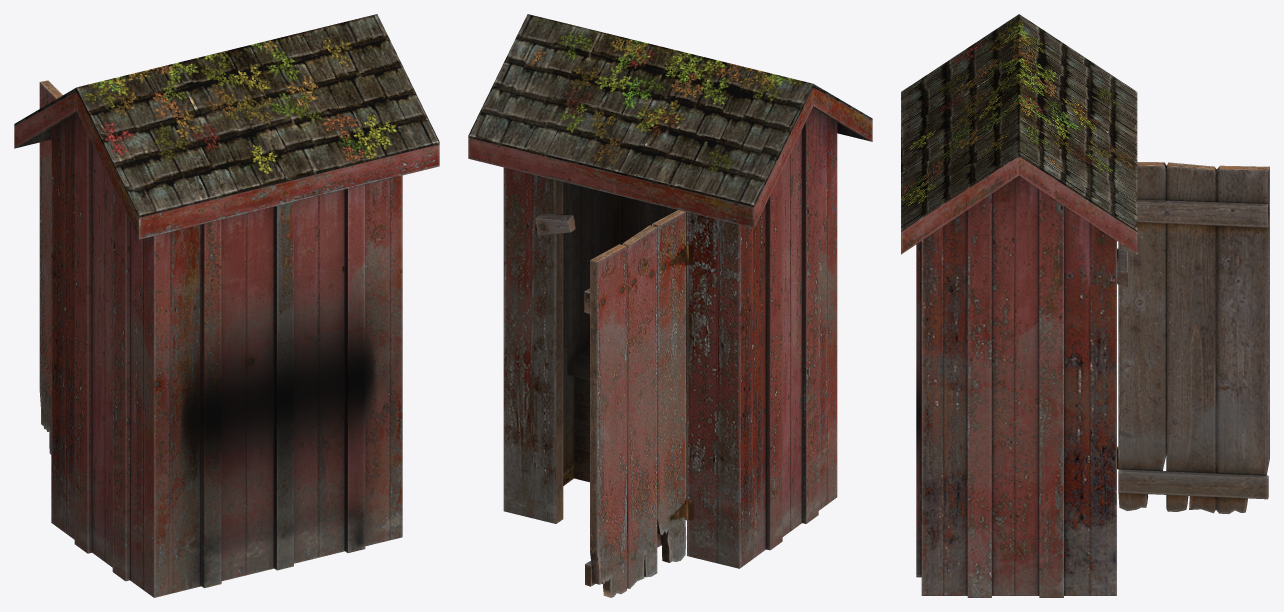
The model's file is Outhouse.fbx.
3 views of the same model, side by side, from view 1: azimuth 30°, elevation 25°; view 2: azimuth 150°, elevation 25°; view 3: azimuth 270°, elevation 25° (orthographic). The views are drawn at different scales.
Parts seen in each view (by area): view 1: Building, Door; view 2: Building, Door, Lock; view 3: Building, Door.
Boxes of the visible parts, <box> form: Building: <box>14,14,439,597</box>; Door: <box>39,80,62,454</box>; Building: <box>468,14,872,568</box>; Door: <box>584,210,688,597</box>; Lock: <box>535,214,576,235</box>; Building: <box>901,14,1137,597</box>; Door: <box>1117,162,1269,513</box>.
Bounding box in the file's own units: 3.53 × 5.38 × 3.95.
